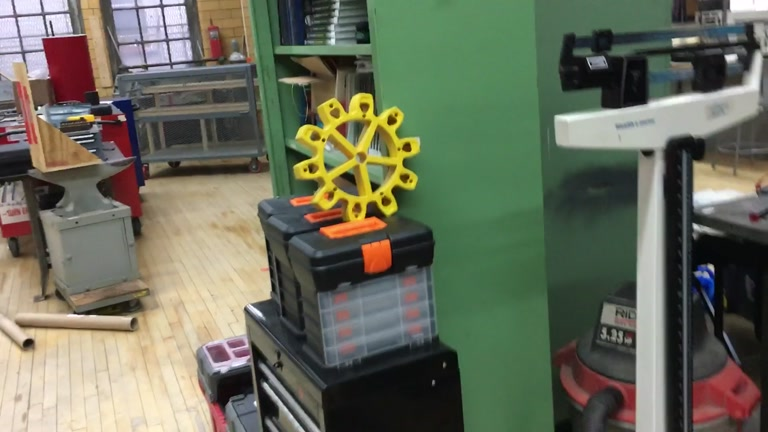gear: (293, 93, 421, 225)
